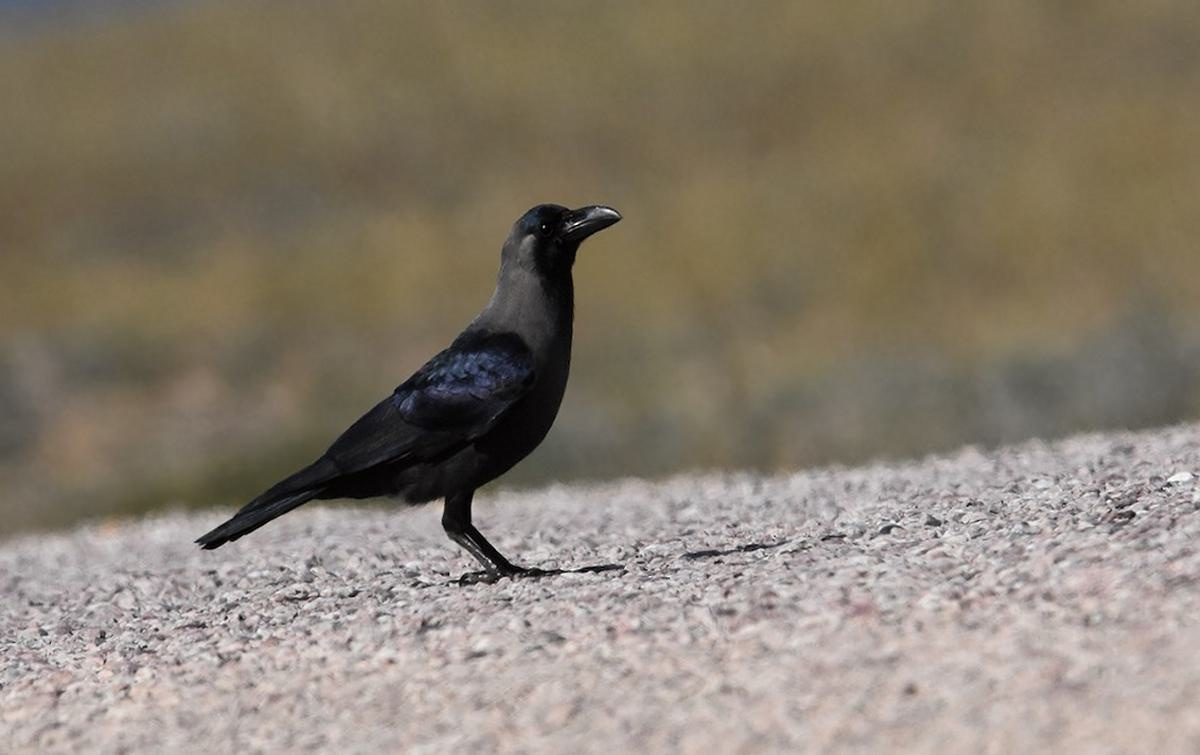crow: (202, 191, 629, 605)
